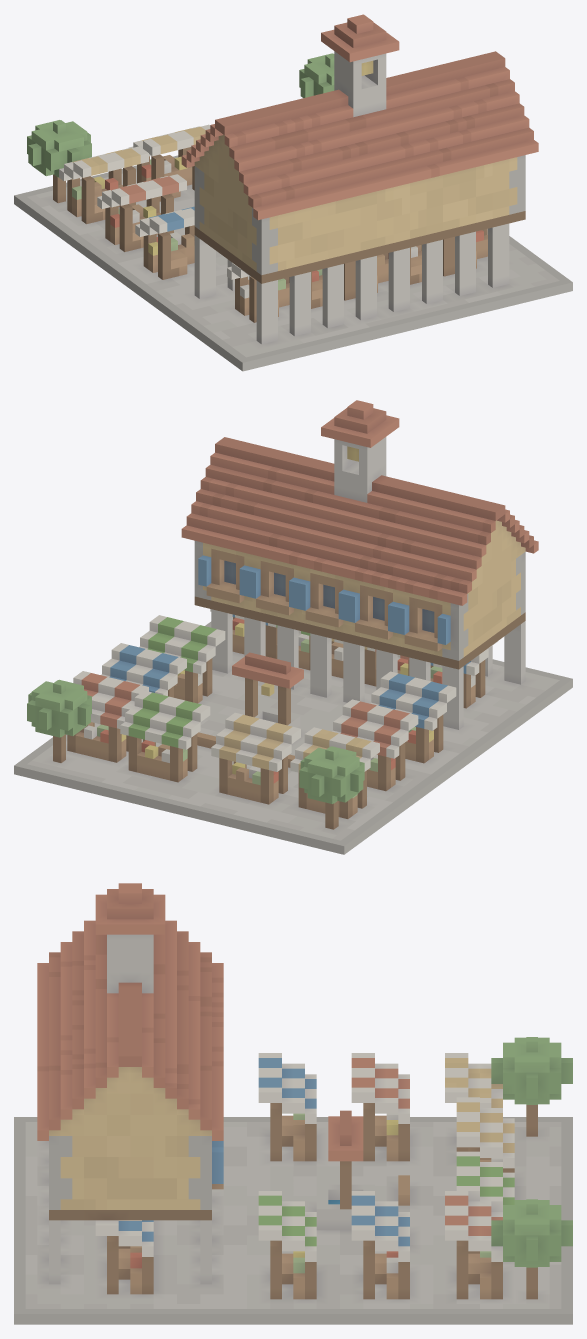
The model's file is market_small.l3.glb.
3 renders of one model, top to bottom at view 1: azimuth 30°, elevation 25°; view 2: azimuth 150°, elevation 25°; view 3: azimuth 270°, elevation 25°, orthographic. The views are drawn at different scales.
Parts seen in each view (by area): view 1: market_small; view 2: market_small; view 3: market_small.
Boxes of the visible parts, x1,y1,x2,y2 form: market_small: [14, 14, 572, 371]; market_small: [14, 400, 572, 854]; market_small: [14, 883, 572, 1324].
Size of the model in its own units: 5 by 4 by 6.
